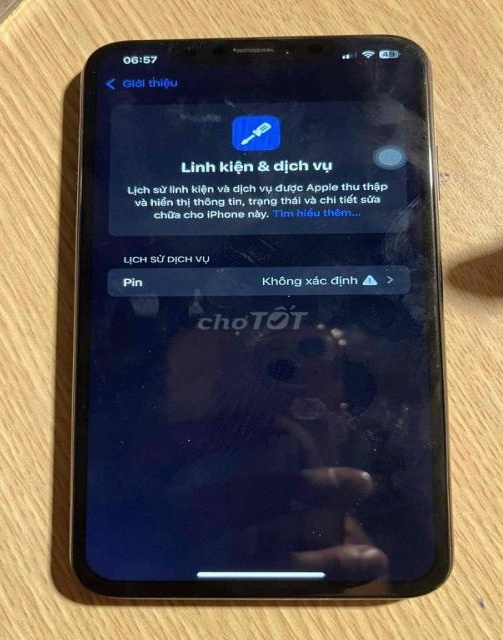scratch: (321, 491, 381, 540), (77, 352, 116, 420), (354, 438, 398, 470), (295, 515, 333, 547), (84, 58, 107, 110), (131, 330, 165, 362), (171, 426, 200, 451), (275, 38, 302, 62), (109, 433, 138, 454), (132, 381, 152, 399)
